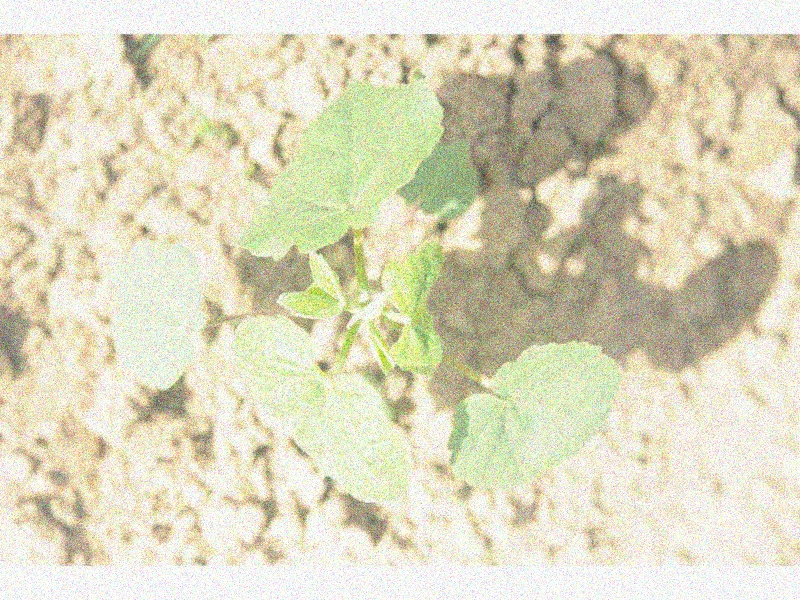velvet: (112, 72, 624, 507)
